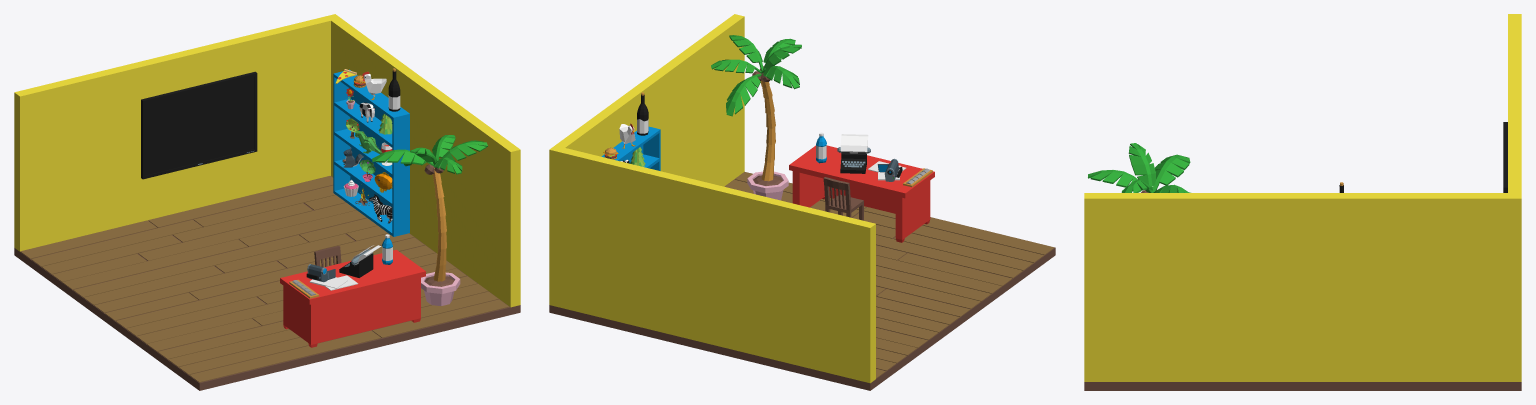
File: myroom.glb
The picture shows the model from 3 angles, left to right: view 1: azimuth 30°, elevation 25°; view 2: azimuth 150°, elevation 25°; view 3: azimuth 270°, elevation 25°; orthographic projection. The views are drawn at different scales.
Visible parts, largest first — view 1: Plane, Cube.024, Cube_Cube.001, Cube.001_Cube.002, Cube.002_Cube.003, palm_tree_01, flower_01_Cube.000, Cube.003_Cube.006, Plane.004_Plane.010; view 2: Plane, Cube.024, Cube.001_Cube.002, palm_tree_01, Cube.002_Cube.003, Cube.003_Cube.006, Plane.004_Plane.010, flower_01_Cube.000; view 3: Plane, palm_tree_01.
Boxes of the visible parts, x1=… form: Plane: x1=14, y1=14, x2=520, y2=390; Cube.024: x1=20, y1=176, x2=508, y2=382; Cube_Cube.001: x1=141, y1=71, x2=257, y2=179; Cube.001_Cube.002: x1=280, y1=249, x2=425, y2=347; Cube.002_Cube.003: x1=333, y1=69, x2=409, y2=236; palm_tree_01: x1=372, y1=135, x2=487, y2=281; flower_01_Cube.000: x1=421, y1=272, x2=460, y2=305; Cube.003_Cube.006: x1=339, y1=245, x2=381, y2=277; Plane.004_Plane.010: x1=314, y1=246, x2=341, y2=267; Plane: x1=549, y1=14, x2=1055, y2=390; Cube.024: x1=724, y1=172, x2=1054, y2=378; Cube.001_Cube.002: x1=789, y1=145, x2=934, y2=242; palm_tree_01: x1=711, y1=35, x2=801, y2=181; Cube.002_Cube.003: x1=601, y1=126, x2=660, y2=170; Cube.003_Cube.006: x1=837, y1=134, x2=870, y2=173; Plane.004_Plane.010: x1=823, y1=177, x2=863, y2=220; flower_01_Cube.000: x1=747, y1=171, x2=788, y2=200; Plane: x1=1084, y1=14, x2=1521, y2=390; palm_tree_01: x1=1088, y1=143, x2=1190, y2=192.
Size of the model in its own units: 77.45 by 39.46 by 77.45.
